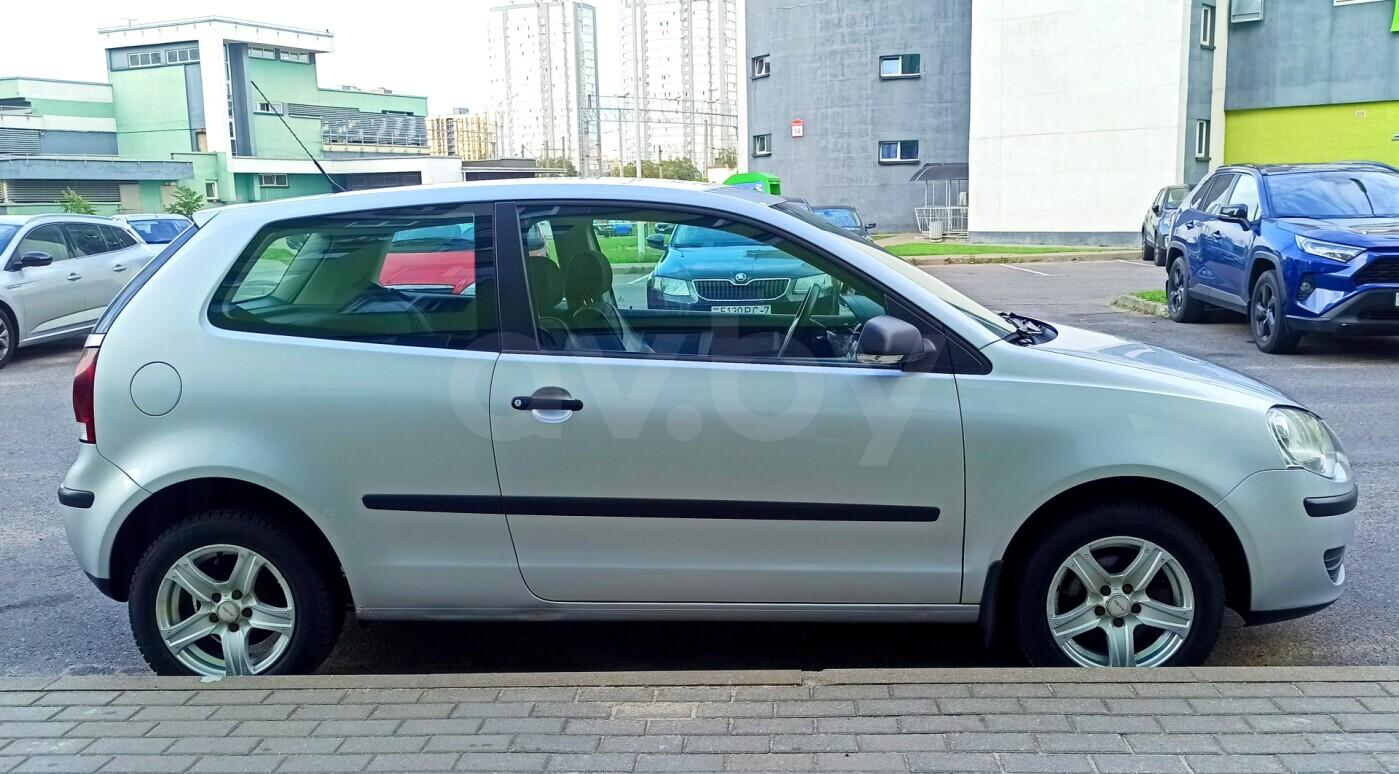Polo_2005-2009: (61, 182, 1362, 690)
